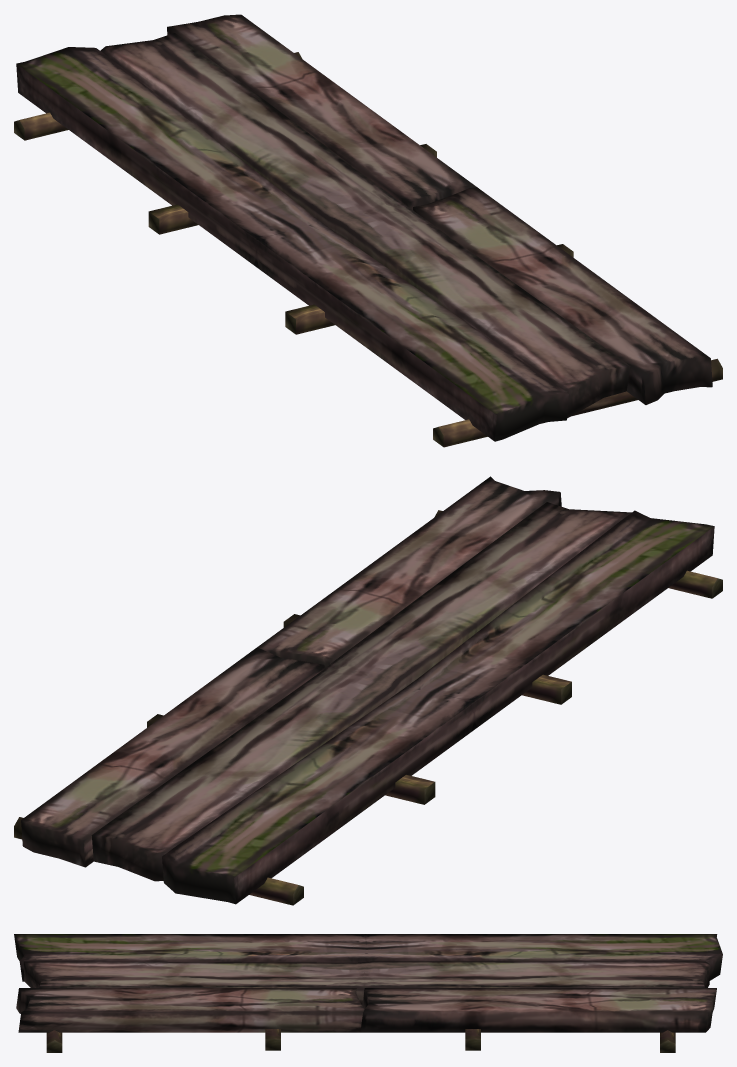
File: STR_PathWoodB.FBX
The picture shows the model from 3 angles, top to bottom: view 1: azimuth 30°, elevation 25°; view 2: azimuth 150°, elevation 25°; view 3: azimuth 270°, elevation 25°; orthographic projection. The views are drawn at different scales.
Visible parts, largest first — view 1: STR_PathWoodB; view 2: STR_PathWoodB; view 3: STR_PathWoodB.
Part boxes in pixels (x1,y1,x2,y2): STR_PathWoodB: [14, 14, 722, 447]; STR_PathWoodB: [14, 476, 722, 905]; STR_PathWoodB: [14, 934, 722, 1052].
Size of the model in its own units: 130 by 18.2 by 390.
